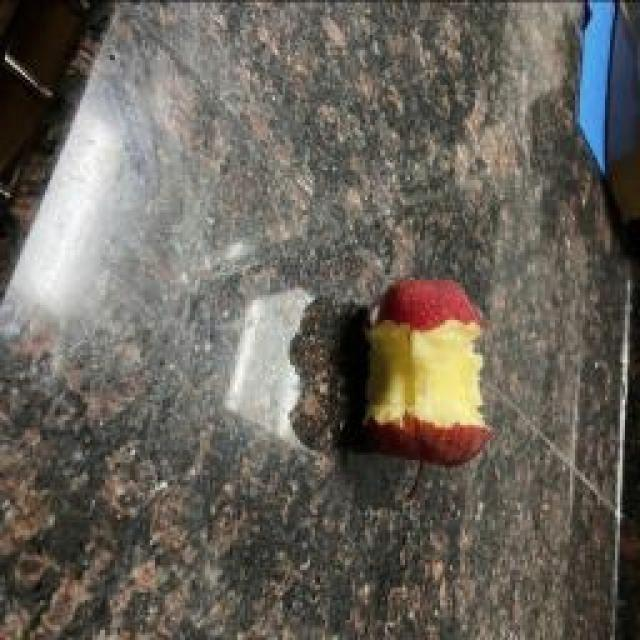Apple: (368, 280, 491, 464)
